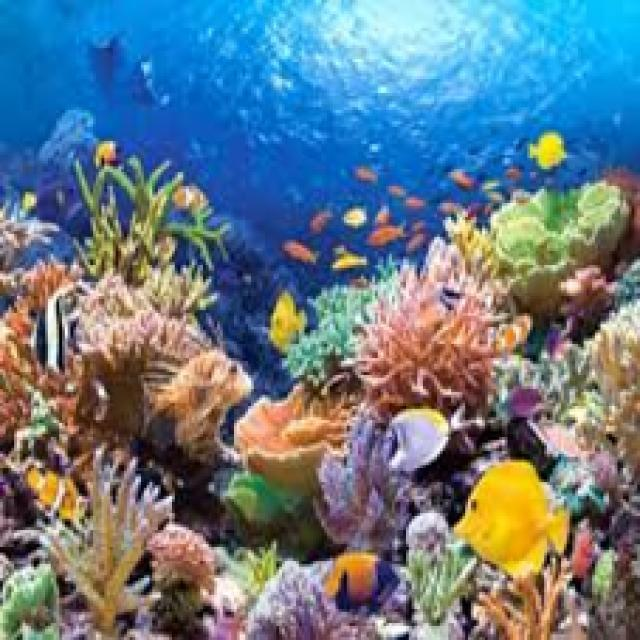Healthy: (369, 262, 492, 412), (497, 192, 618, 308), (72, 475, 155, 626), (85, 168, 191, 281), (234, 396, 355, 482), (591, 309, 639, 475), (296, 289, 368, 379), (4, 258, 52, 374), (484, 569, 564, 638), (254, 561, 323, 640), (405, 545, 467, 622), (2, 372, 73, 434), (1, 564, 56, 640), (153, 526, 216, 589), (230, 474, 298, 525), (449, 218, 497, 268), (591, 552, 626, 601), (566, 527, 594, 580), (252, 541, 277, 589)
